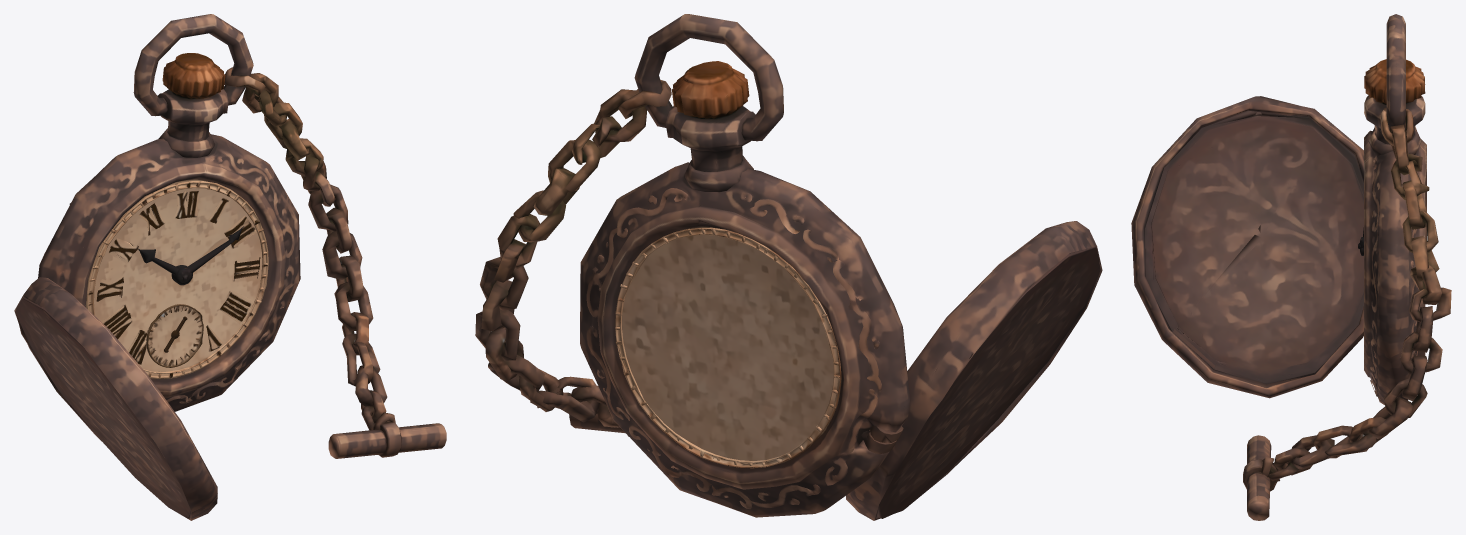
Rendered from pocket_watch_parts.glb.
3 renders of one model, left to right at view 1: azimuth 30°, elevation 25°; view 2: azimuth 150°, elevation 25°; view 3: azimuth 270°, elevation 25°, orthographic. The views are drawn at different scales.
Parts seen in each view (by area): view 1: Body, Cover, Chain; view 2: Body, Cover, Chain; view 3: Cover, Chain, Body.
Boxes of the visible parts, x1,y1,x2,y2 form: Body: (21, 14, 298, 441); Cover: (14, 277, 217, 520); Chain: (216, 16, 446, 458); Body: (580, 14, 1004, 517); Cover: (846, 221, 1102, 520); Chain: (475, 21, 684, 436); Cover: (1131, 96, 1363, 398); Chain: (1243, 37, 1451, 520); Body: (1313, 14, 1426, 404).
Size of the model in its own units: 0.9326 by 0.9512 by 0.665.
Materials: 1 (1 with a texture image).
